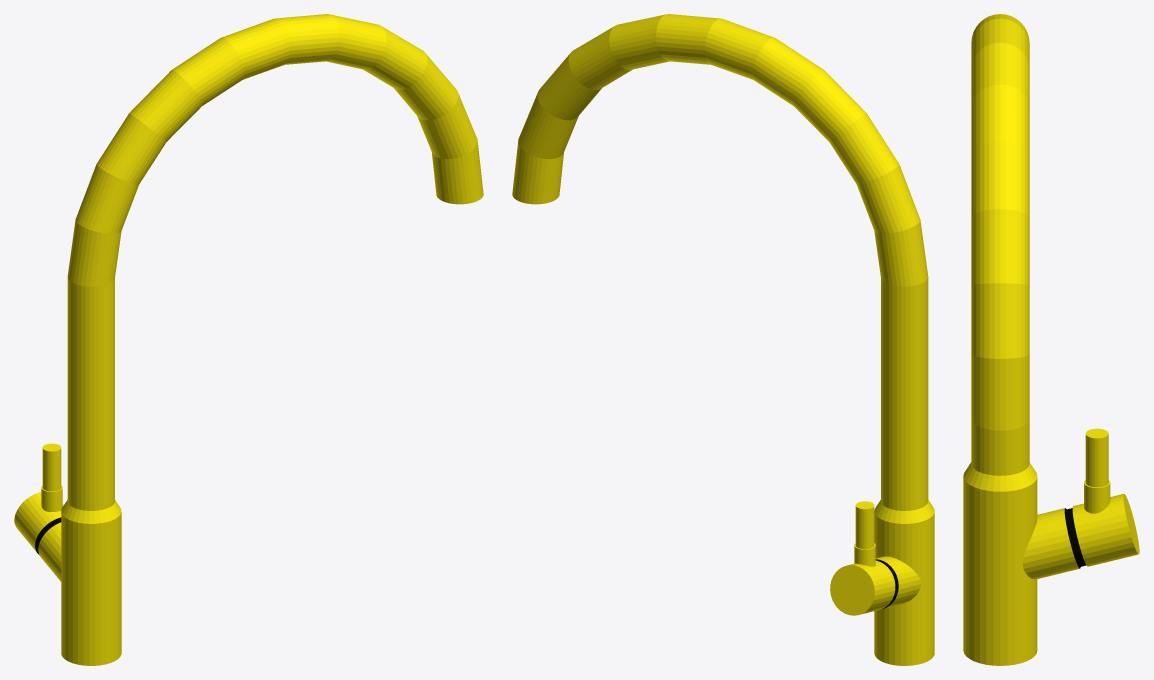
The model's file is robinet.glb.
3 views of the same model, side by side, from view 1: azimuth 30°, elevation 25°; view 2: azimuth 150°, elevation 25°; view 3: azimuth 270°, elevation 25° (orthographic). The views are drawn at different scales.
Parts seen in each view (by area): view 1: robinet; view 2: robinet; view 3: robinet.
Boxes of the visible parts, bbox=[...] form: robinet: bbox=[14, 14, 483, 665]; robinet: bbox=[512, 14, 934, 665]; robinet: bbox=[963, 14, 1139, 665].
Size of the model in its own units: 0.1285 by 0.1736 by 0.0385.
